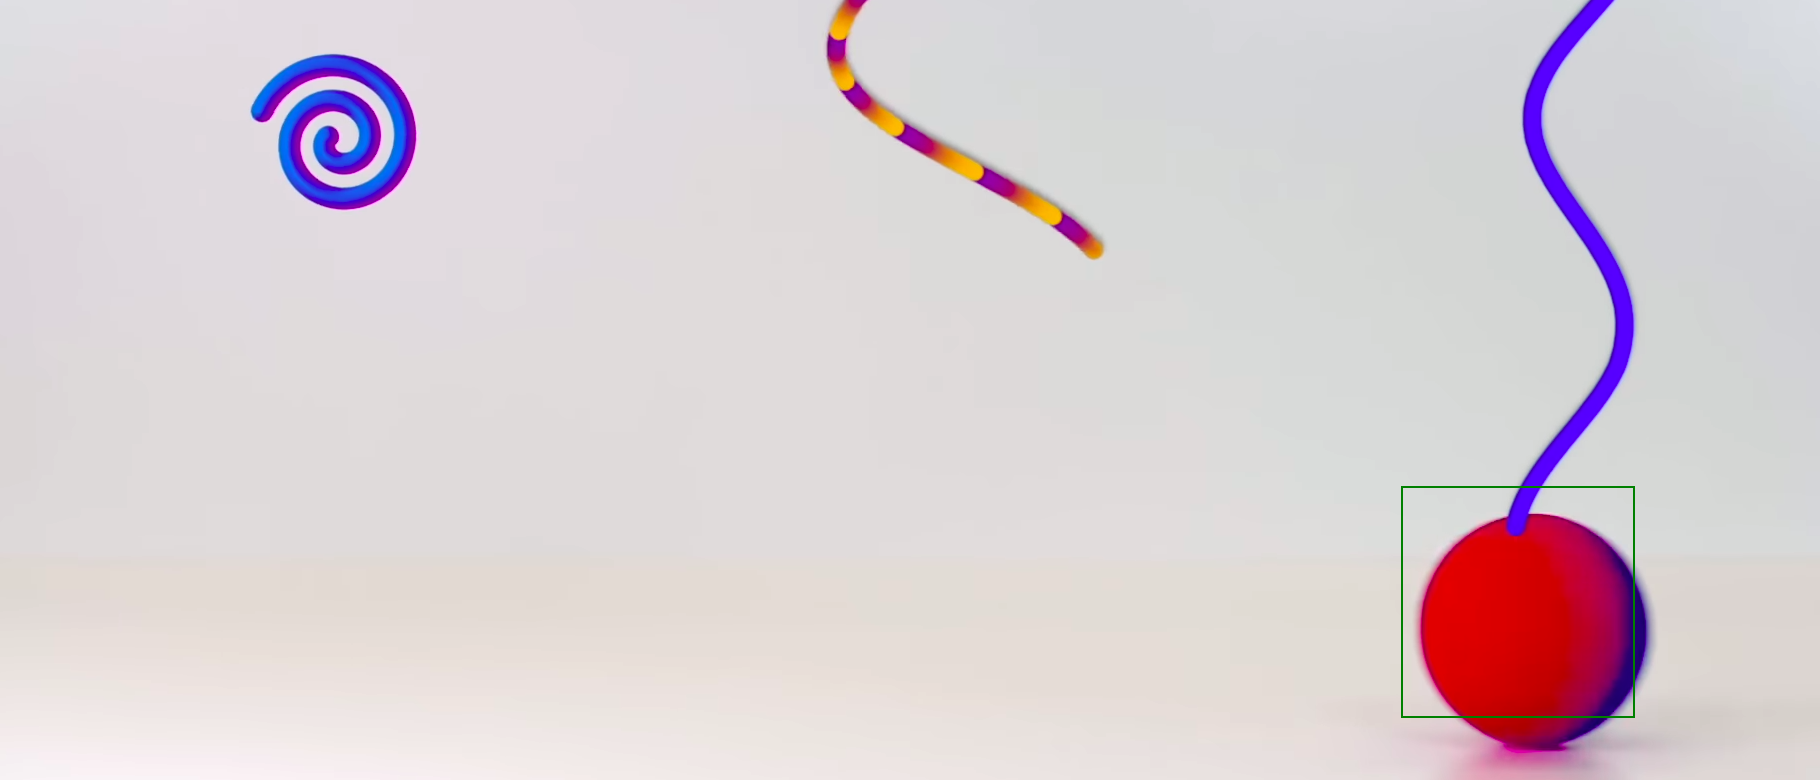Circle: (1413, 511, 1654, 750)
